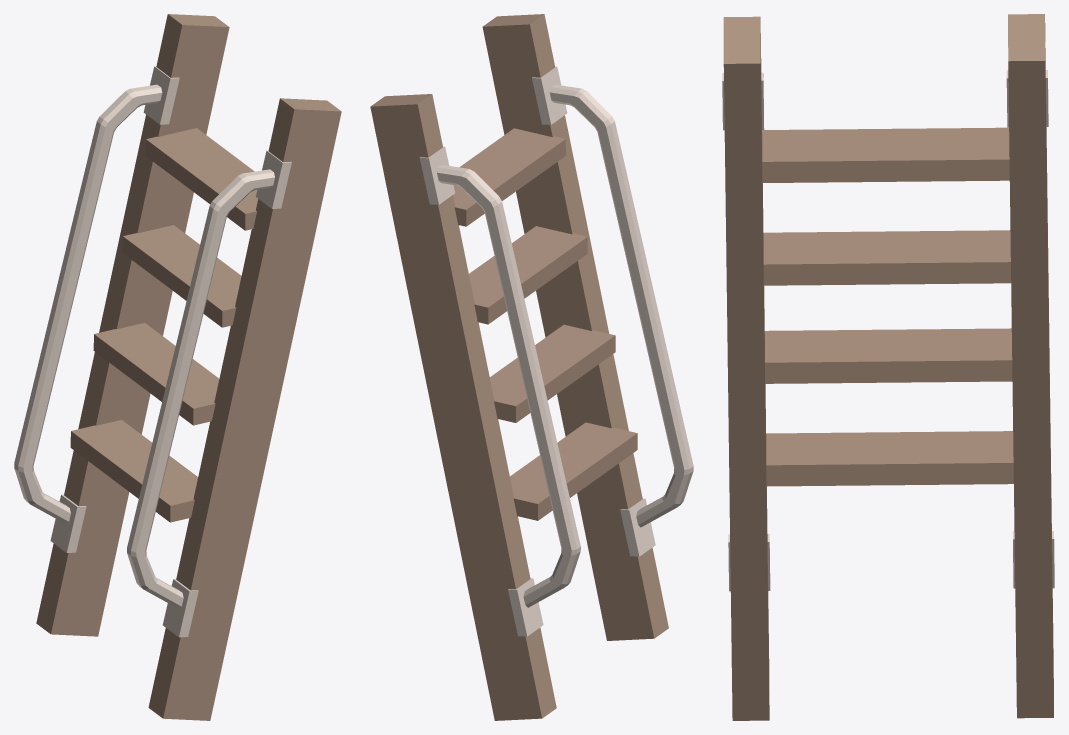
File: Playground_stairs.fbx
The picture shows the model from 3 angles, left to right: view 1: azimuth 30°, elevation 25°; view 2: azimuth 150°, elevation 25°; view 3: azimuth 270°, elevation 25°; orthographic projection. The views are drawn at different scales.
Parts seen in each view (by area): view 1: Playground_stairs; view 2: Playground_stairs; view 3: Playground_stairs.
Part boxes in pixels (x1,y1,x2,y2): Playground_stairs: [14, 14, 341, 720]; Playground_stairs: [370, 14, 693, 720]; Playground_stairs: [722, 14, 1054, 720].
Bounding box in the file's own units: 48.63 × 136 × 54.2.
